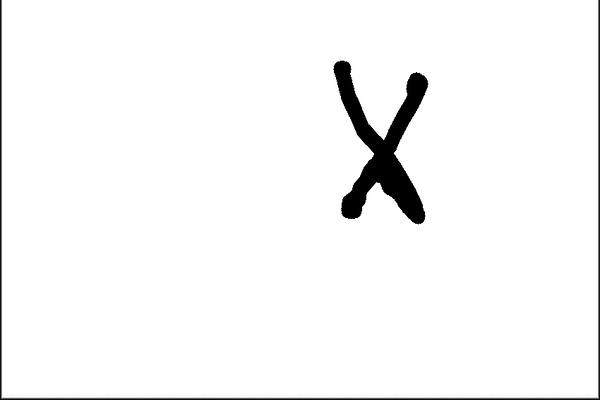X: (316, 39, 430, 269)
